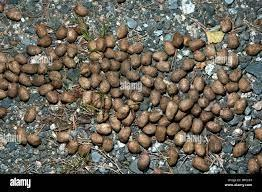Elk: (73, 49, 224, 149)
